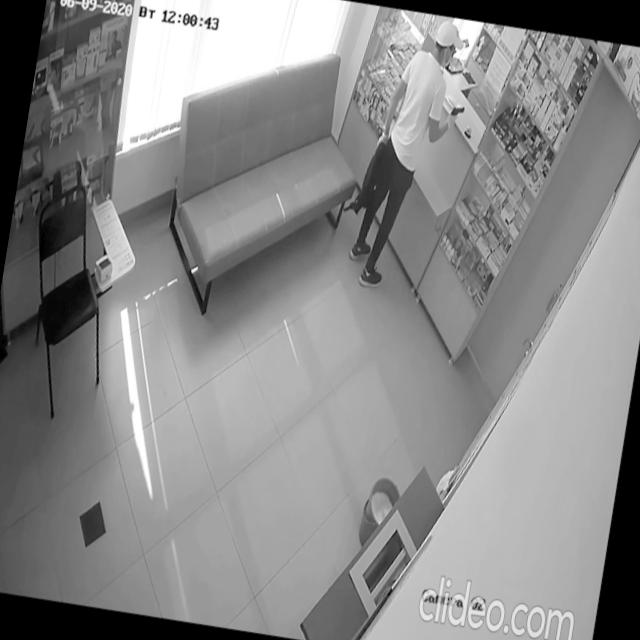gun: (450, 104, 465, 119)
person with a gun: (344, 11, 478, 300)
